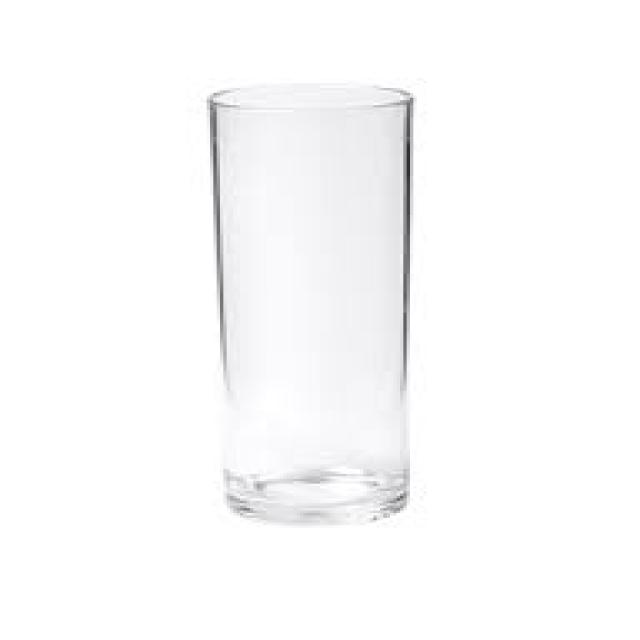glass: (207, 81, 407, 523)
